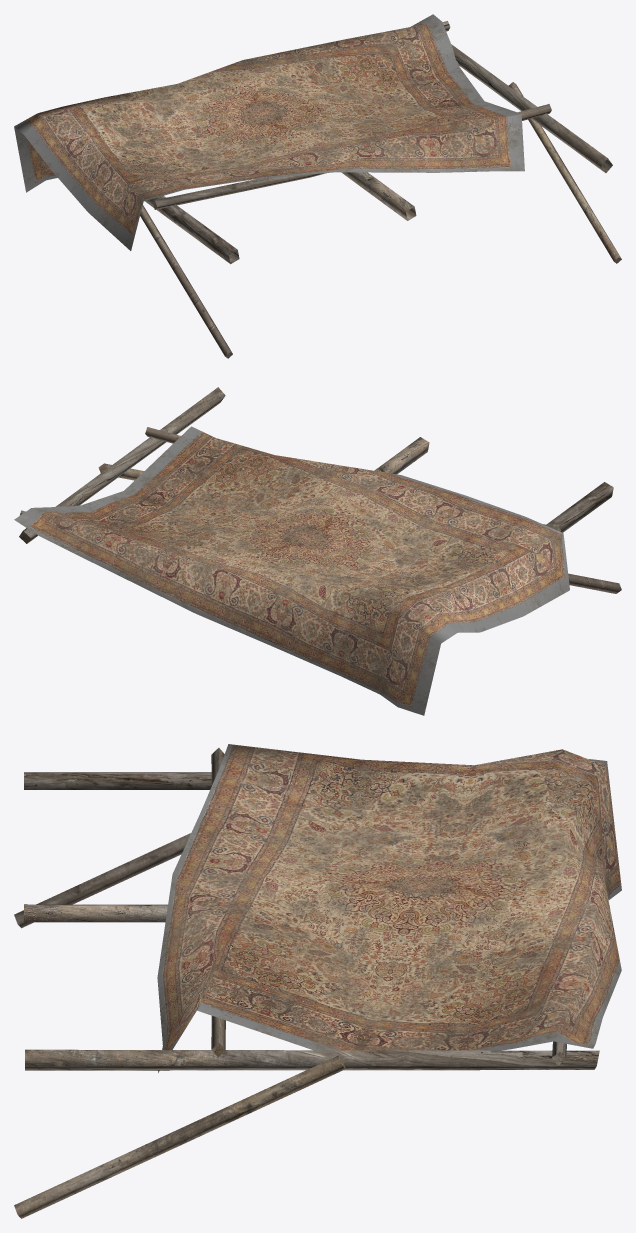
The model's file is Fabric3_LOD1.fbx.
The picture shows the model from 3 angles, top to bottom: view 1: azimuth 30°, elevation 25°; view 2: azimuth 150°, elevation 25°; view 3: azimuth 270°, elevation 25°; orthographic projection. The views are drawn at different scales.
Parts seen in each view (by area): view 1: polySurface42; view 2: polySurface42; view 3: polySurface42.
Boxes of the visible parts, <box> form: polySurface42: <box>14,14,621,358</box>; polySurface42: <box>14,387,621,715</box>; polySurface42: <box>14,744,621,1218</box>.
Size of the model in its own units: 3.24 by 0.869 by 2.64.
